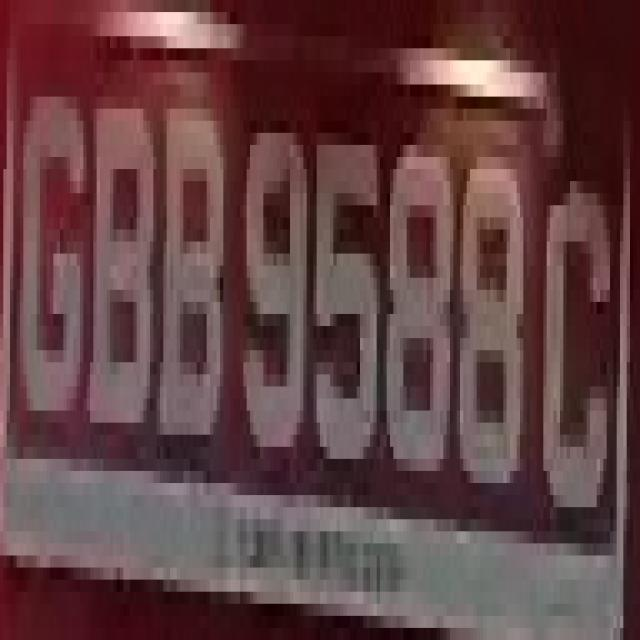5: (317, 109, 380, 507)
8: (450, 109, 523, 507), (387, 109, 453, 483)
9: (240, 85, 317, 483)
B: (160, 36, 223, 507), (86, 72, 156, 471)
C: (533, 145, 607, 543)
G: (17, 48, 83, 435)
